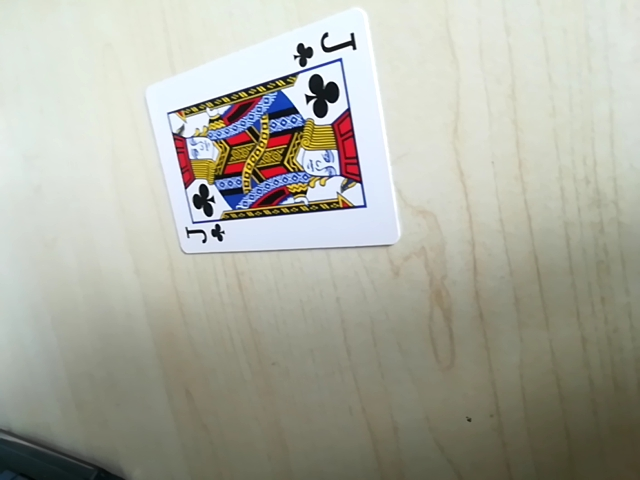mh j: (290, 25, 362, 66), (178, 215, 229, 253)
